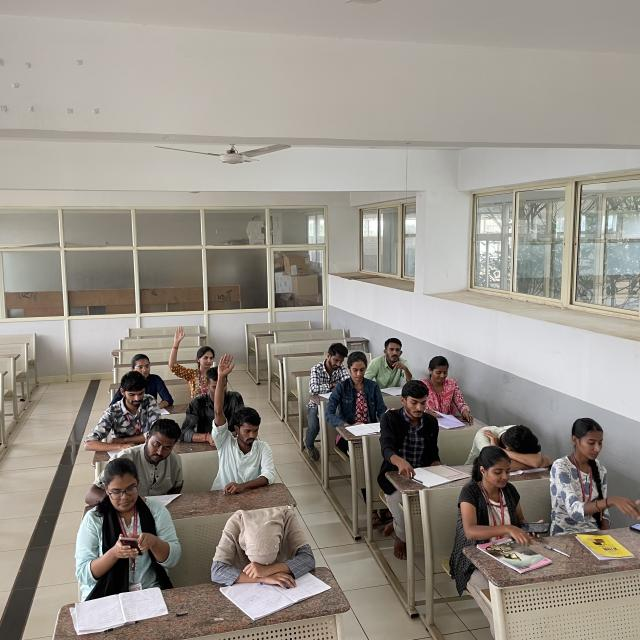Hand Rising: (210, 352, 276, 490), (166, 326, 215, 395)
Reading: (82, 374, 160, 460), (381, 382, 443, 476), (332, 350, 387, 434), (428, 357, 462, 429), (310, 345, 350, 400)
Sleeping: (207, 504, 317, 584), (472, 423, 554, 475)
Using Phone: (78, 459, 172, 584), (465, 444, 552, 540)
